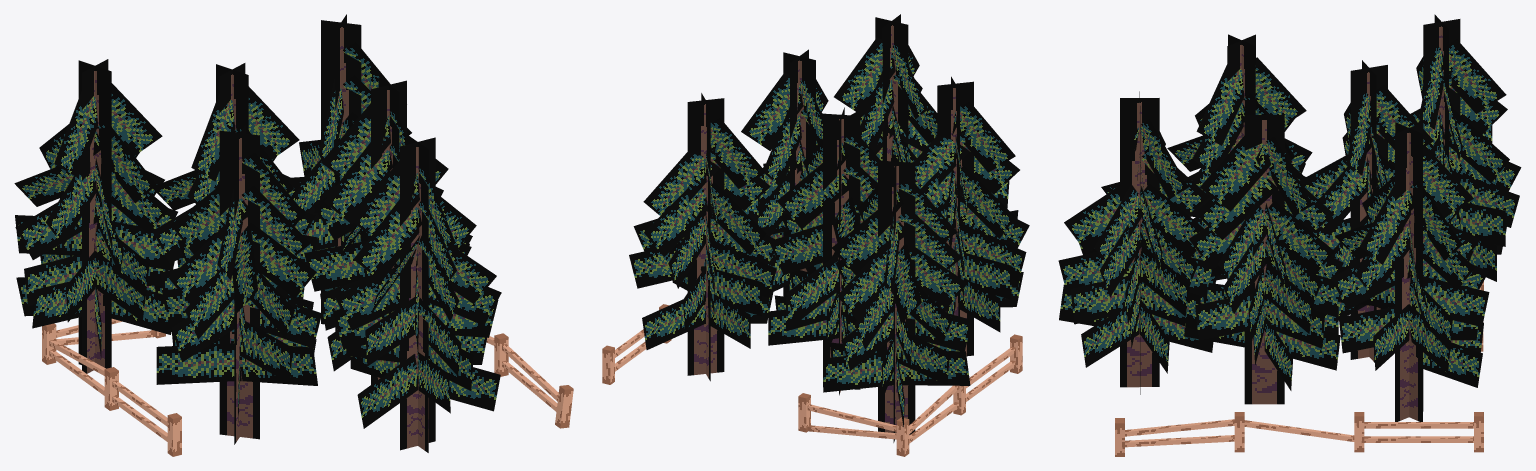
The model's file is tree_farm.glb.
3 renders of one model, left to right at view 1: azimuth 30°, elevation 25°; view 2: azimuth 150°, elevation 25°; view 3: azimuth 270°, elevation 25°, orthographic. The views are drawn at different scales.
Parts seen in each view (by area): view 1: tree_farm; view 2: tree_farm; view 3: tree_farm.
Part boxes in pixels (<box>): tree_farm: <box>14,14,573,456</box>; tree_farm: <box>602,14,1029,456</box>; tree_farm: <box>1058,14,1521,456</box>.
Bounding box in the file's own units: 10.45 × 8.16 × 11.61.
1 material, 1 textured.
